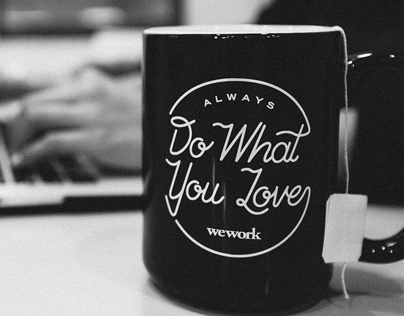wework: (205, 224, 264, 242)
